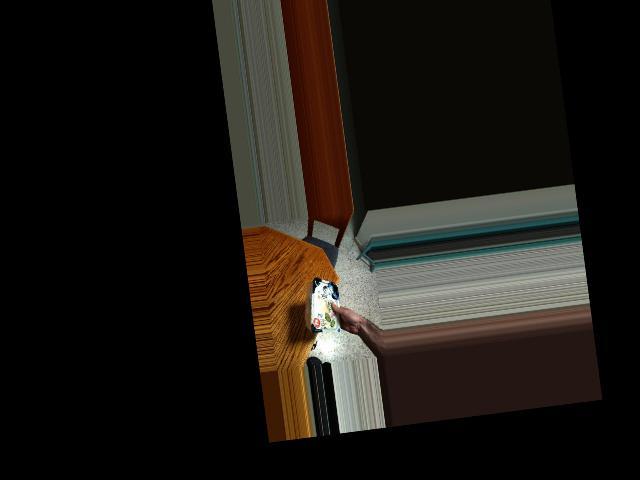cheese: (303, 277, 348, 333)
